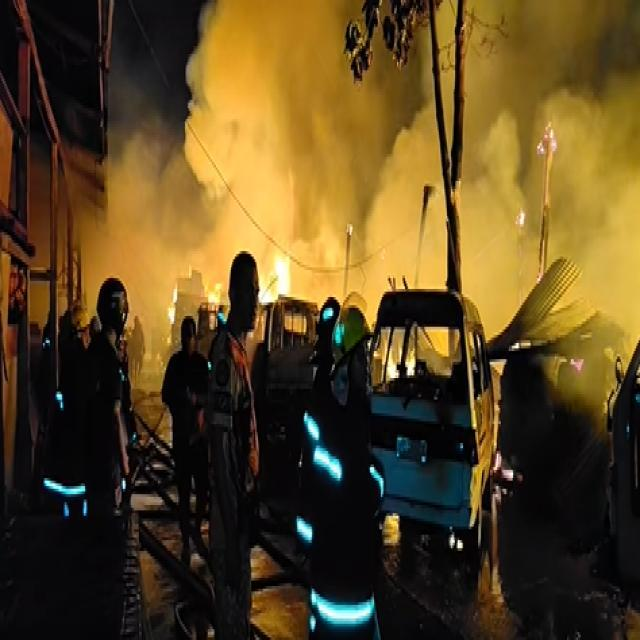Fire: (254, 247, 299, 310)
Smoke: (190, 0, 403, 334), (356, 68, 548, 348)
